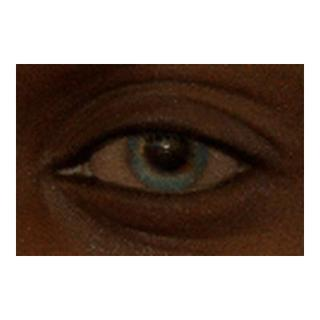pupil: (148, 130, 188, 171)
